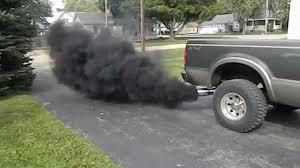smoke: (42, 18, 206, 110)
